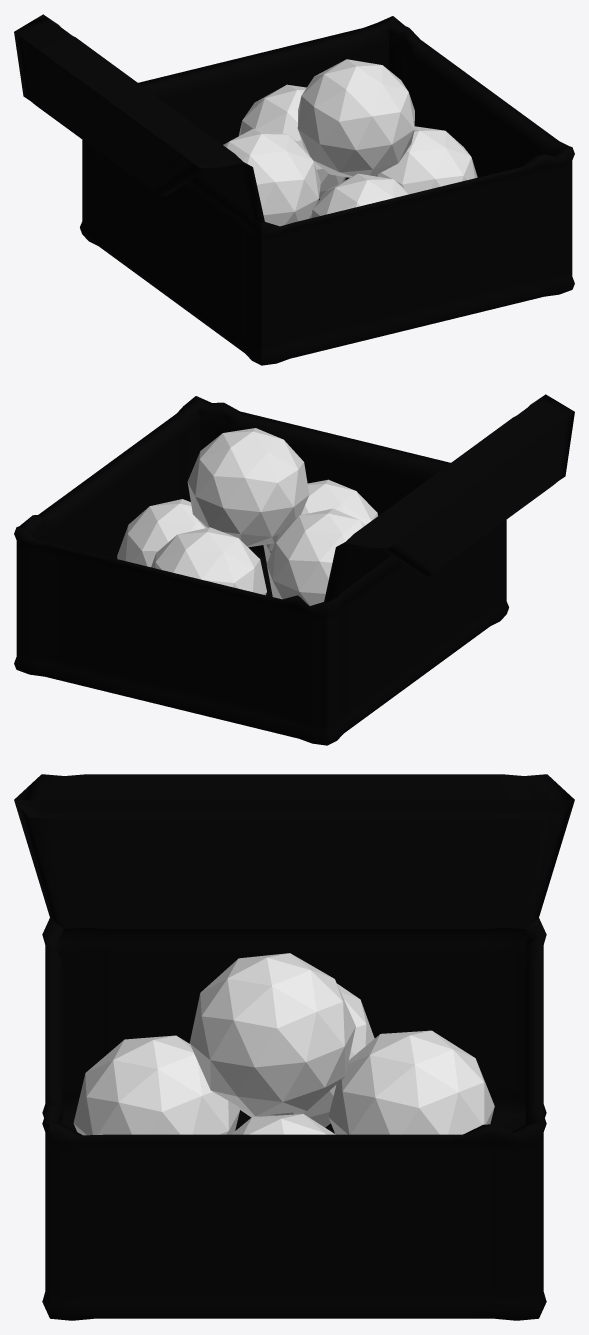
The model's file is retard_box.glb.
The picture shows the model from 3 angles, top to bottom: view 1: azimuth 30°, elevation 25°; view 2: azimuth 150°, elevation 25°; view 3: azimuth 270°, elevation 25°; orthographic projection. The views are drawn at different scales.
Parts seen in each view (by area): view 1: Cube_Cube.001, Icosphere; view 2: Cube_Cube.001, Icosphere; view 3: Cube_Cube.001, Icosphere.
Boxes of the visible parts, x1,y1,x2,y2 form: Cube_Cube.001: [14, 14, 574, 365]; Icosphere: [223, 59, 477, 226]; Cube_Cube.001: [14, 394, 574, 745]; Icosphere: [117, 428, 377, 605]; Cube_Cube.001: [14, 774, 574, 1320]; Icosphere: [73, 953, 494, 1135].
Bounding box in the file's own units: 2.7 × 1.42 × 2.43.
Materials: 1 (1 with a texture image).
